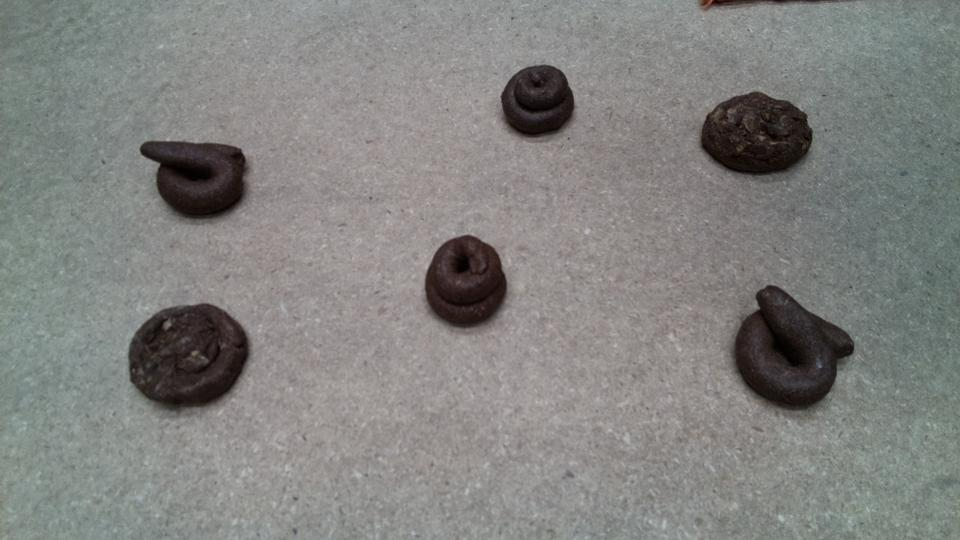poop: (731, 282, 861, 416), (125, 300, 251, 411), (698, 87, 815, 178), (136, 135, 251, 220), (422, 229, 510, 329), (498, 61, 578, 141)
